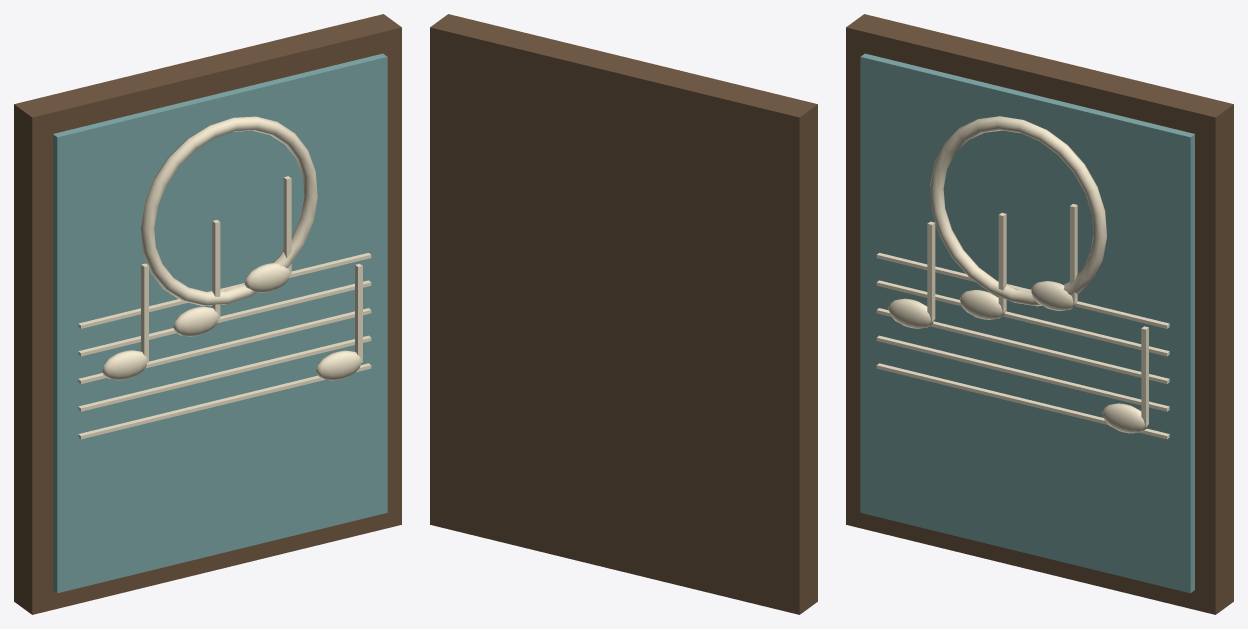
3 views of the same model, side by side, from view 1: azimuth 30°, elevation 25°; view 2: azimuth 150°, elevation 25°; view 3: azimuth 330°, elevation 25° (orthographic).
Size of the model in its own units: 1.4 by 1.8 by 0.2415.
